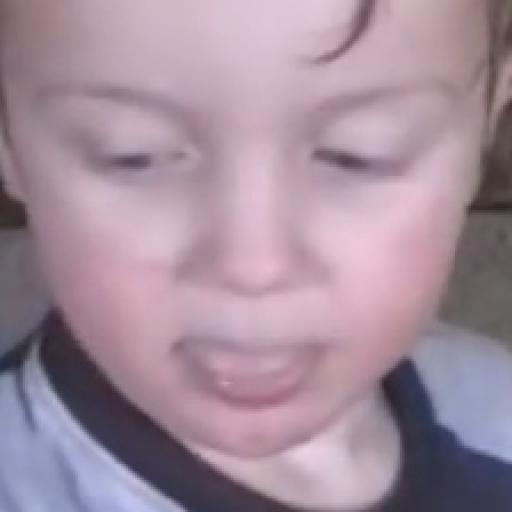Autism: (13, 0, 512, 471)
